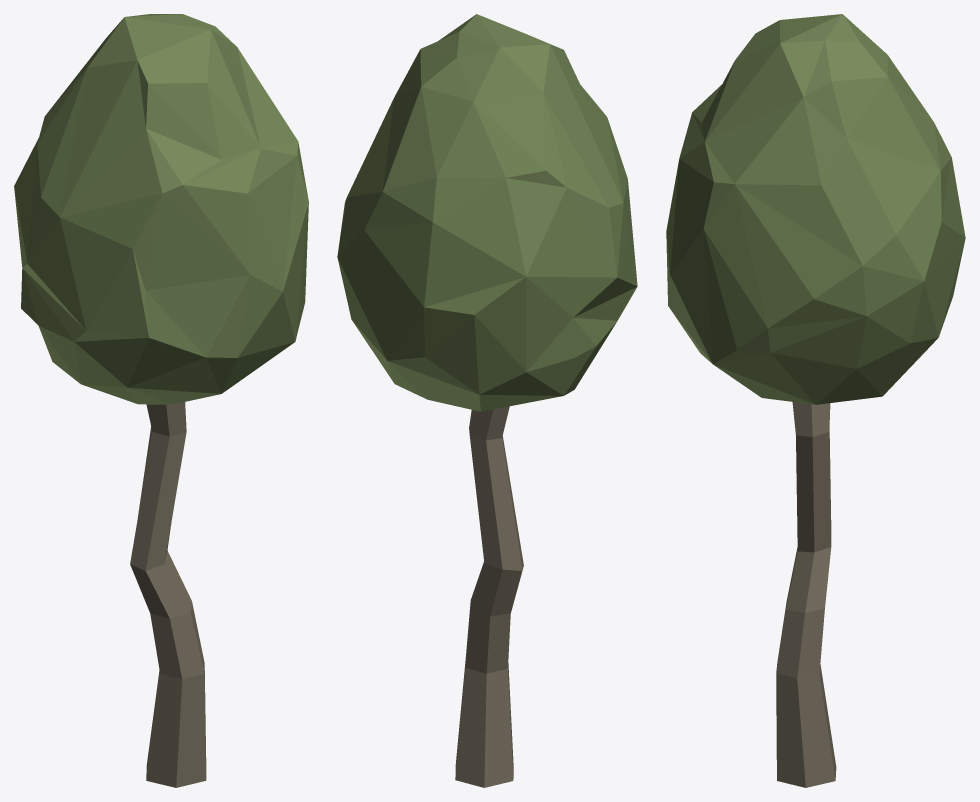
File: tree_1.fbx
The picture shows the model from 3 angles, left to right: view 1: azimuth 30°, elevation 25°; view 2: azimuth 150°, elevation 25°; view 3: azimuth 270°, elevation 25°; orthographic projection.
Parts seen in each view (by area): view 1: pCube2; view 2: pCube2; view 3: pCube2.
Part boxes in pixels (x1,y1,x2,y2): pCube2: [14, 14, 308, 787]; pCube2: [337, 14, 637, 787]; pCube2: [666, 14, 965, 787].
Bounding box in the file's own units: 3.95 × 10.93 × 3.98.
